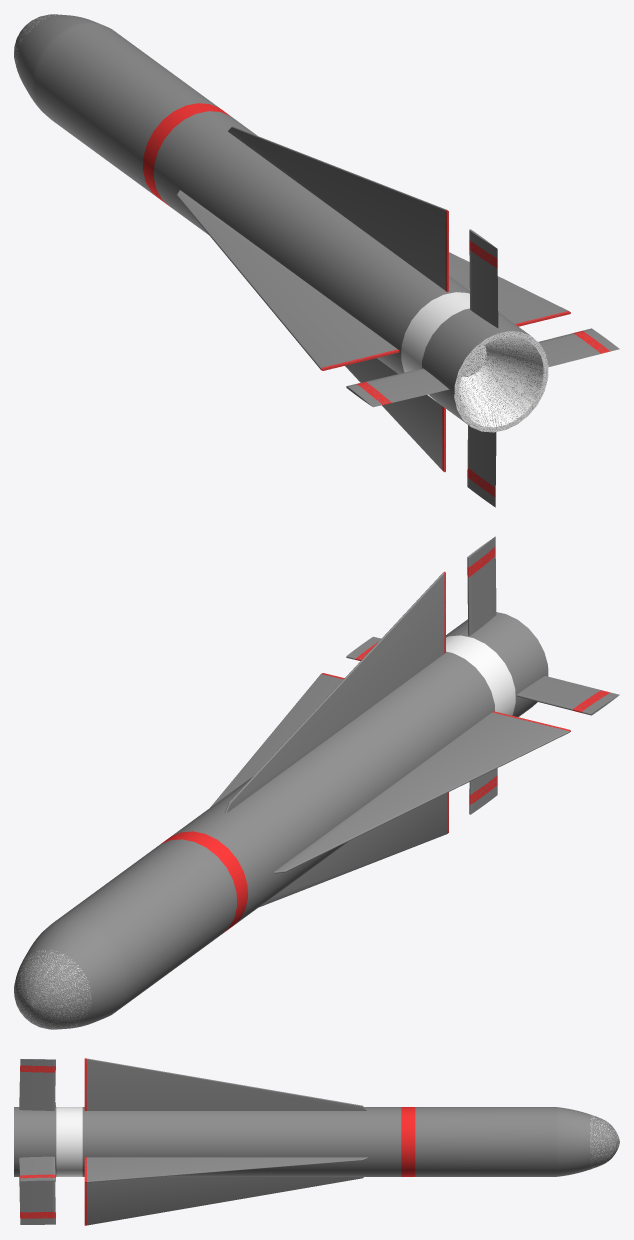
Rendered from AttackMissile.dae.
3 views of the same model, one above another, from view 1: azimuth 30°, elevation 25°; view 2: azimuth 150°, elevation 25°; view 3: azimuth 270°, elevation 25° (orthographic). The views are drawn at different scales.
Visible parts, largest first — view 1: SketchUp (×15); view 2: SketchUp (×12); view 3: SketchUp (×16).
Part boxes in pixels (bbox=[...]): SketchUp (×15): bbox=[17, 14, 600, 487]; SketchUp (×12): bbox=[14, 556, 600, 1029]; SketchUp (×16): bbox=[14, 1058, 619, 1225].
Bounding box in the file's own units: 0.9415 × 3.08 × 0.9413.
